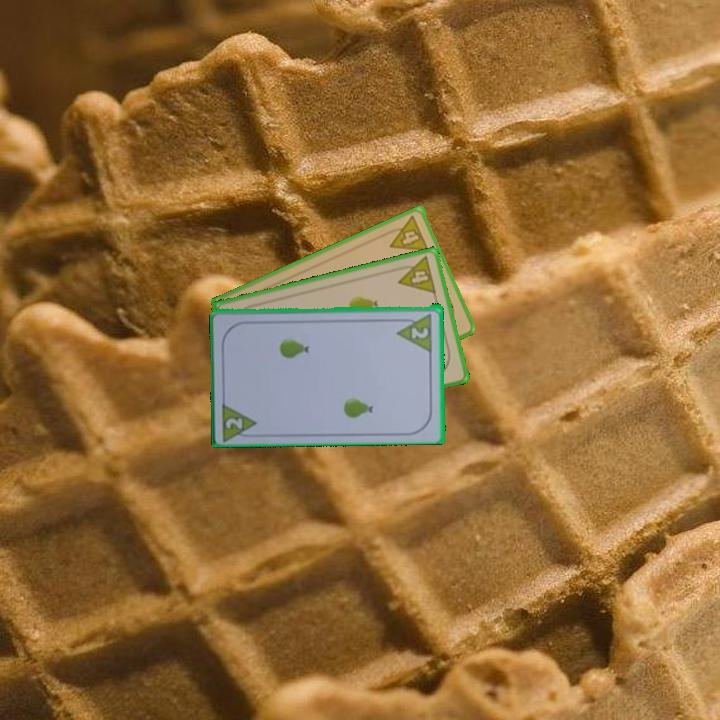2p: (219, 397, 261, 442), (394, 309, 435, 353)
4p: (382, 212, 432, 255), (392, 253, 439, 297)
